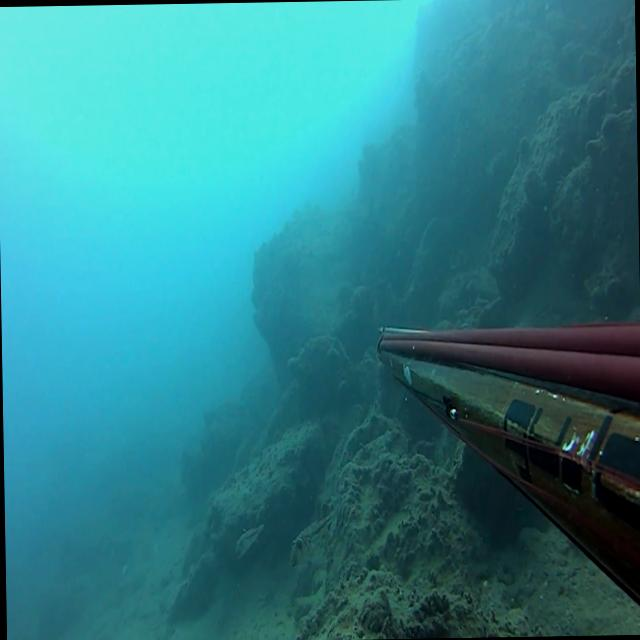Balon Baligi: (288, 499, 340, 566), (233, 521, 264, 558)
